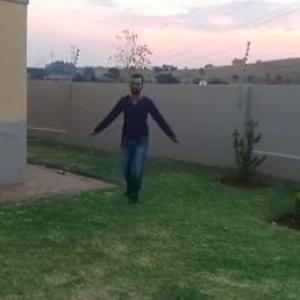land: (87, 70, 185, 208)
